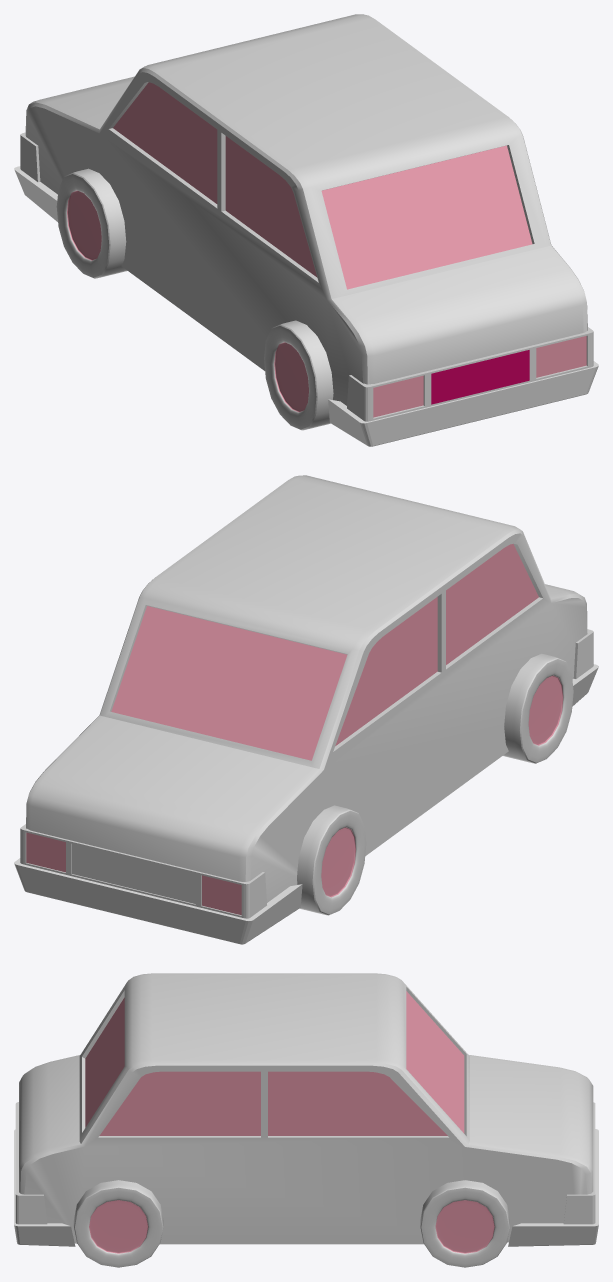
File: car.fbx
3 renders of one model, top to bottom at view 1: azimuth 30°, elevation 25°; view 2: azimuth 150°, elevation 25°; view 3: azimuth 270°, elevation 25°, orthographic. The views are drawn at different scales.
Visible parts, largest first — view 1: car_body, car_wheel, car_lights, car_bumper; view 2: car_body, car_wheel, car_lights, car_bumper; view 3: car_body, car_wheel, car_bumper, car_lights.
Boxes of the visible parts, x1,y1,x2,y2 form: car_body: (25, 14, 587, 418); car_wheel: (56, 168, 333, 430); car_lights: (20, 132, 593, 421); car_bumper: (14, 166, 598, 446); car_body: (26, 475, 587, 902); car_wheel: (297, 653, 573, 915); car_lights: (20, 629, 593, 918); car_bumper: (14, 664, 598, 944); car_body: (19, 973, 593, 1244); car_wheel: (73, 1180, 509, 1267); car_bumper: (14, 1129, 598, 1246); car_lights: (15, 1102, 595, 1224).
Bounding box in the file's own units: 230 × 202 × 540.
